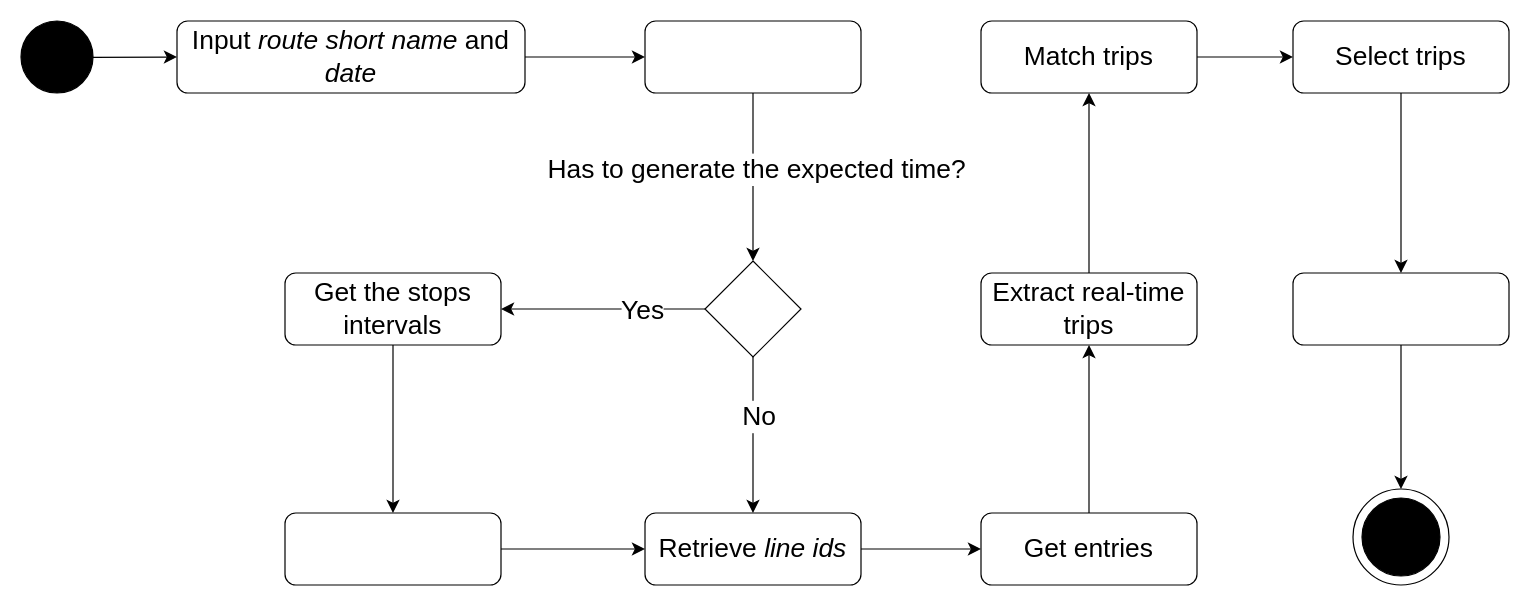
The diagram is 1530 pixels wide and 606 high, and some of its shapes have lost their labels. The centre of each missing label's shape, as x and y in pixels:
"Generate the expected time" goes at (x=392, y=548).
"Link trips" goes at (x=1400, y=308).
"Retrieve Route" goes at (x=752, y=56).
